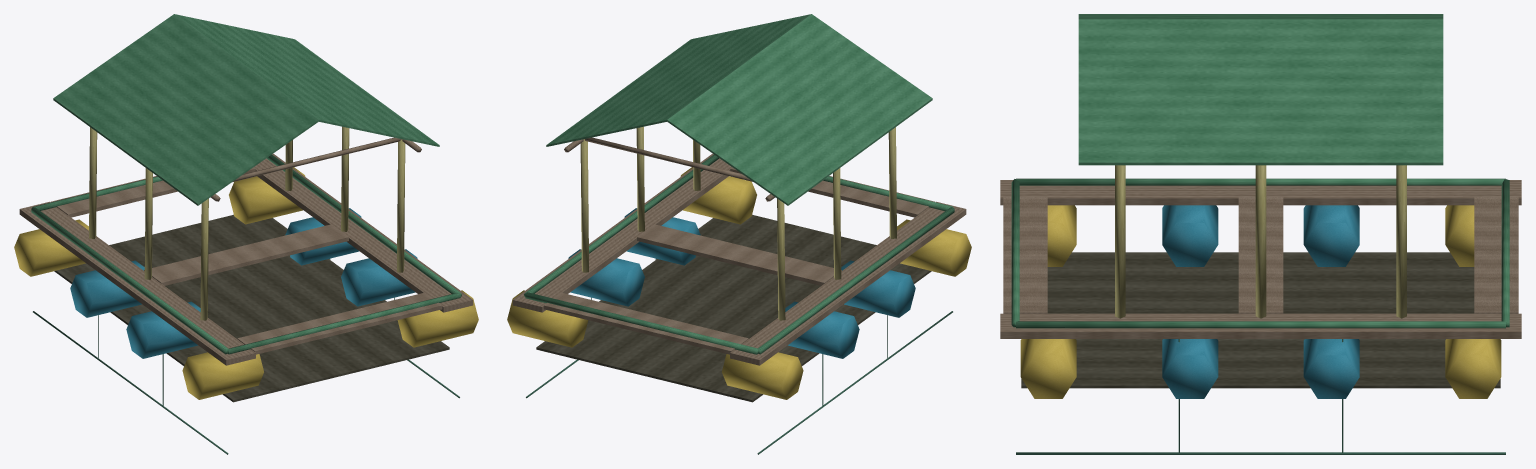
The model's file is bung-raft-0-green-mid.glb.
3 renders of one model, left to right at view 1: azimuth 30°, elevation 25°; view 2: azimuth 150°, elevation 25°; view 3: azimuth 270°, elevation 25°, orthographic. The views are drawn at different scales.
Parts seen in each view (by area): view 1: bung-raft-0-green-mid; view 2: bung-raft-0-green-mid; view 3: bung-raft-0-green-mid.
Part boxes in pixels (box(x1,y1,x2,y2)): bung-raft-0-green-mid: box(14, 14, 478, 454); bung-raft-0-green-mid: box(507, 14, 971, 454); bung-raft-0-green-mid: box(1000, 14, 1521, 454).
Bounding box in the file's own units: 4.14 × 4.17 × 5.4.
Materials: 1 (1 with a texture image).
